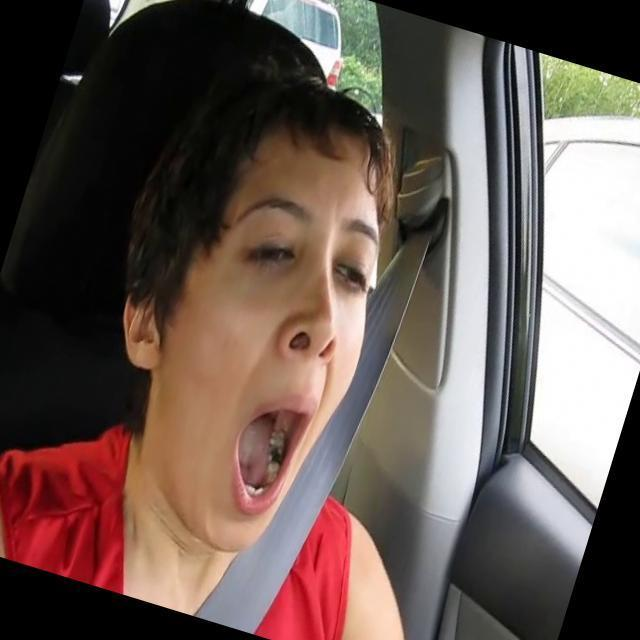open-mouth: (232, 397, 296, 514)
